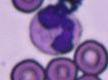N: (29, 4, 82, 56)
